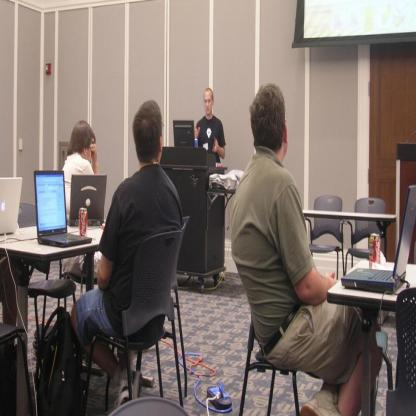board: (340, 183, 416, 295), (33, 168, 93, 248), (67, 173, 107, 226), (0, 176, 23, 235), (368, 232, 380, 266), (79, 208, 88, 240)
